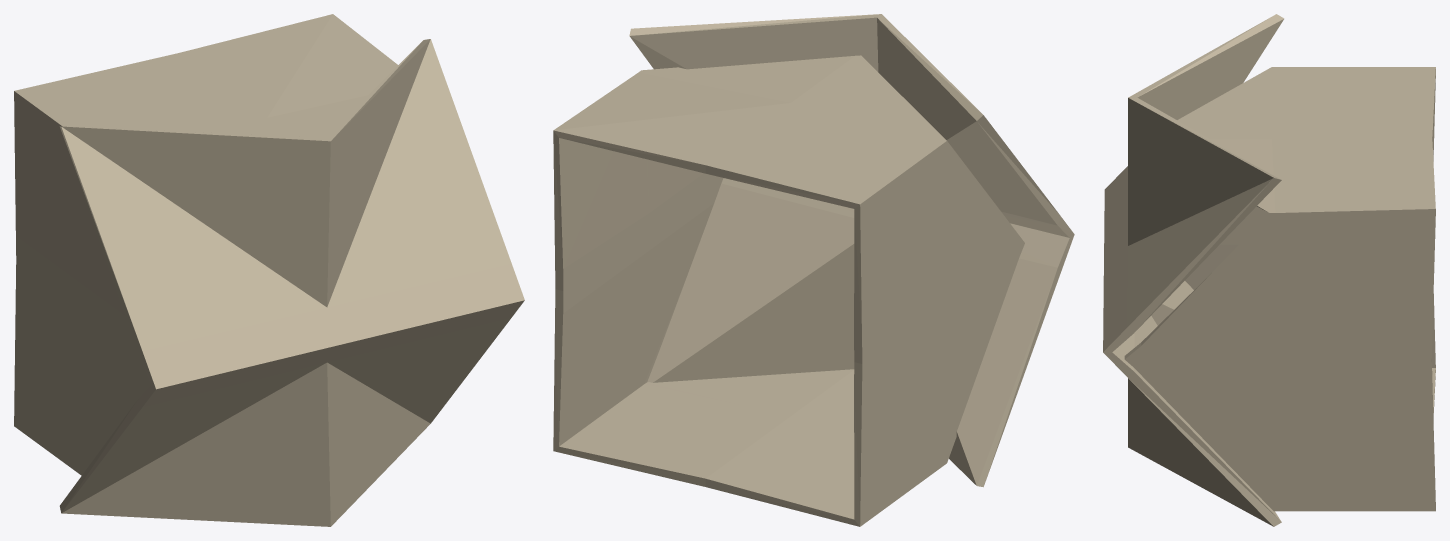
Rendered from house.obj.
3 renders of one model, left to right at view 1: azimuth 30°, elevation 25°; view 2: azimuth 150°, elevation 25°; view 3: azimuth 270°, elevation 25°, orthographic. The views are drawn at different scales.
Visible parts, largest first — view 1: object_2, object_1; view 2: object_1, object_2; view 3: object_1, object_2.
Boxes of the visible parts, x1,y1,x2,y2 form: object_2: [59, 39, 524, 526]; object_1: [14, 14, 397, 475]; object_1: [553, 55, 1024, 526]; object_2: [629, 14, 1074, 487]; object_1: [1124, 67, 1435, 511]; object_2: [1103, 14, 1284, 526].
Bounding box in the file's own units: 1519 × 1526 × 1312.
